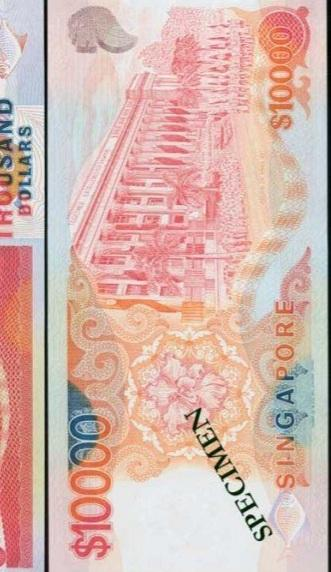10000SingaporeDollar: (50, 3, 323, 572)
